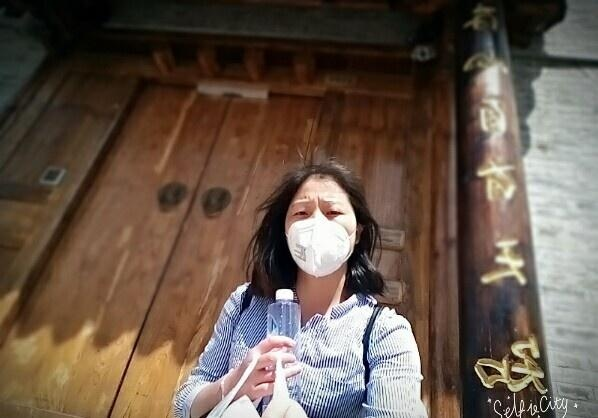Mask: (283, 198, 360, 275)
